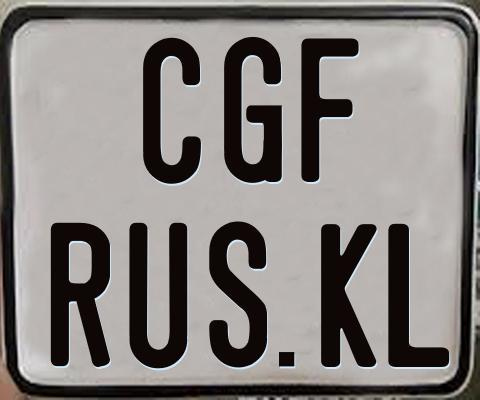C: (143, 36, 207, 186)
F: (300, 36, 361, 184)
G: (221, 36, 284, 186)
K: (321, 222, 378, 365)
L: (385, 221, 449, 367)
R: (50, 221, 111, 371)
S: (206, 221, 270, 373)
U: (129, 223, 188, 372)
